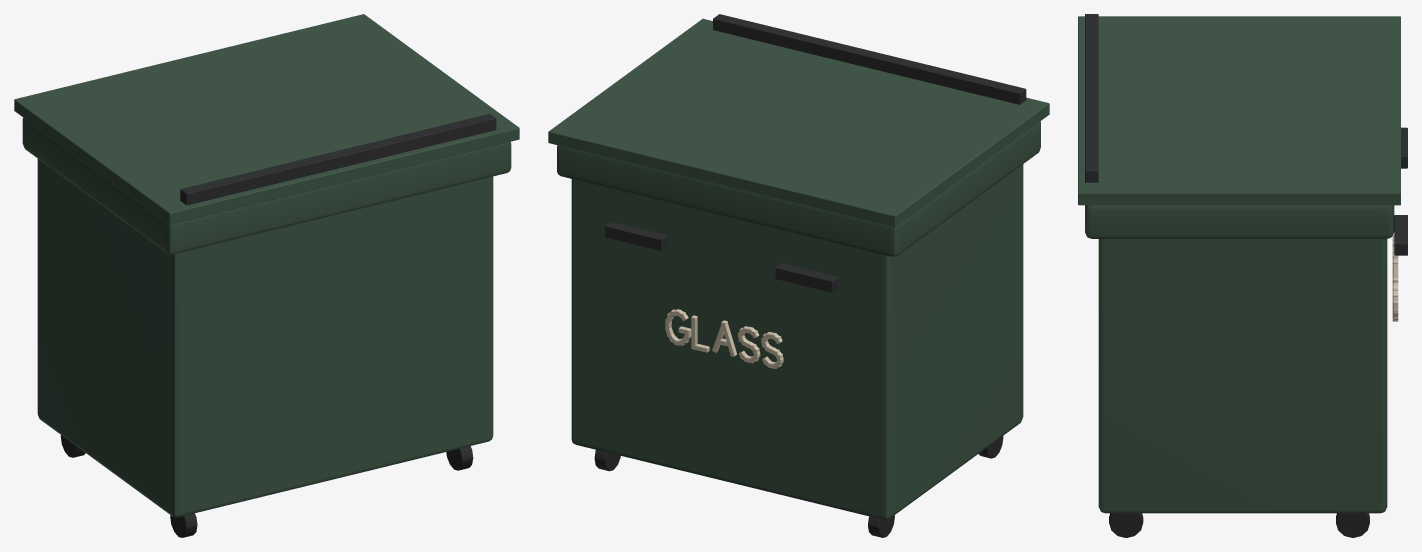
The model's file is prop_ah_bottle_bank.glb.
3 renders of one model, left to right at view 1: azimuth 30°, elevation 25°; view 2: azimuth 150°, elevation 25°; view 3: azimuth 270°, elevation 25°, orthographic. The views are drawn at different scales.
Parts seen in each view (by area): view 1: Body; view 2: Body; view 3: Body.
Boxes of the visible parts, left/top/right/bottom form: Body: left=14, top=14, right=519, bottom=537; Body: left=548, top=14, right=1049, bottom=537; Body: left=1078, top=14, right=1407, bottom=537.
Bounding box in the file's own units: 1.22 × 1.2 × 0.96.
